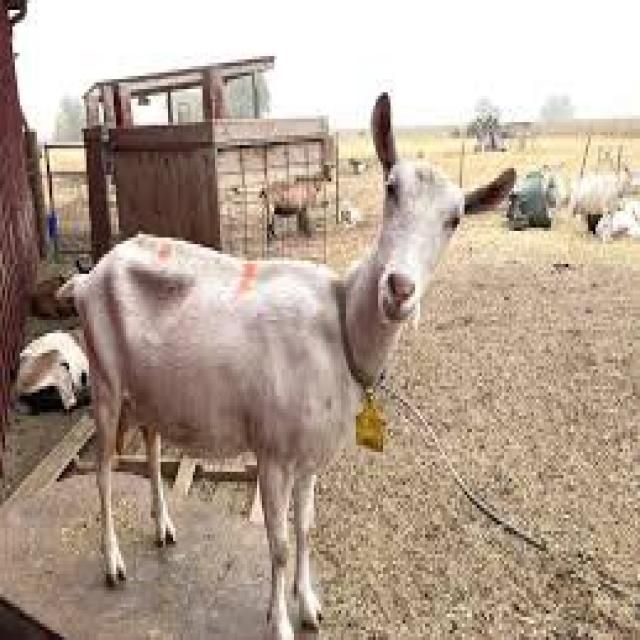Goat: (49, 76, 514, 640)
